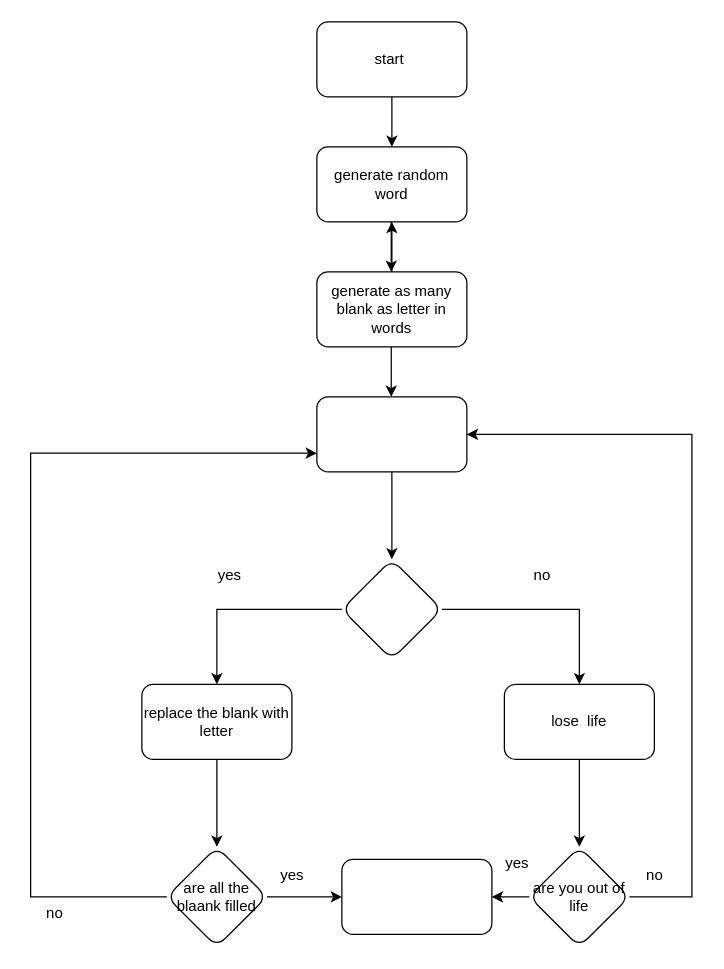
The diagram is 724 pixels wide and 969 high, and some of its shapes have lost their labels. Here are the shapes that lost their labels. From the top down, the centre of each, then its label:
At point 391,434: "guess the letter by adding user".
At point 391,608: "is the word present".
At point 416,896: "game over".
